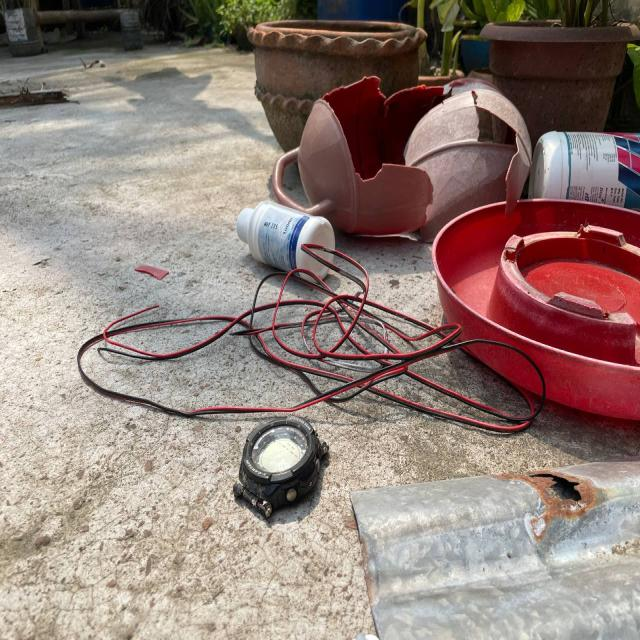Cable: (72, 240, 550, 443)
E-waste: (210, 402, 344, 532)
Metal: (346, 460, 640, 640)
Plastics: (218, 67, 640, 239), (498, 198, 640, 413)
